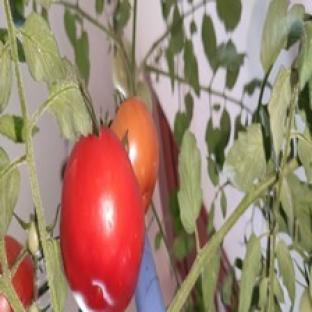Tomato: (60, 127, 144, 310), (111, 98, 158, 211), (13, 254, 33, 307)
